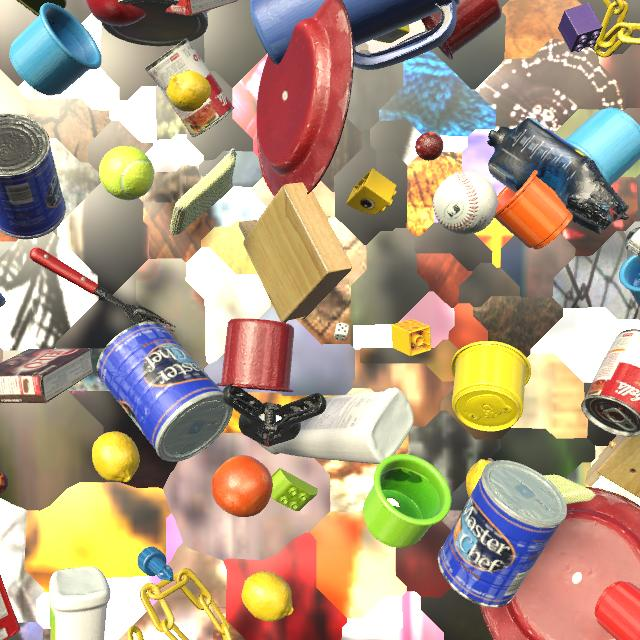ycb_002_master_chef_can: (96, 322, 233, 462), (438, 460, 567, 608), (0, 113, 66, 239)
ycb_003_cracker_box: (0, 574, 21, 640)
ycb_004_sugar_box: (372, 25, 410, 43)
ycb_005_tomato_soup_can: (145, 38, 234, 137), (581, 329, 640, 437)
ycb_007_tuna_fish_can: (0, 293, 6, 307)
ycb_008_pudding_box: (0, 348, 94, 403)
ycb_009_gelatin_box: (165, 0, 238, 16)
ycb_010_potted_meat_can: (16, 0, 67, 16)
ycb_013_apple: (86, 0, 146, 26)
ycb_014_lemon: (242, 571, 294, 622), (92, 431, 140, 482), (167, 71, 211, 112), (466, 459, 492, 497)
ycb_017_orange: (211, 455, 273, 517)
